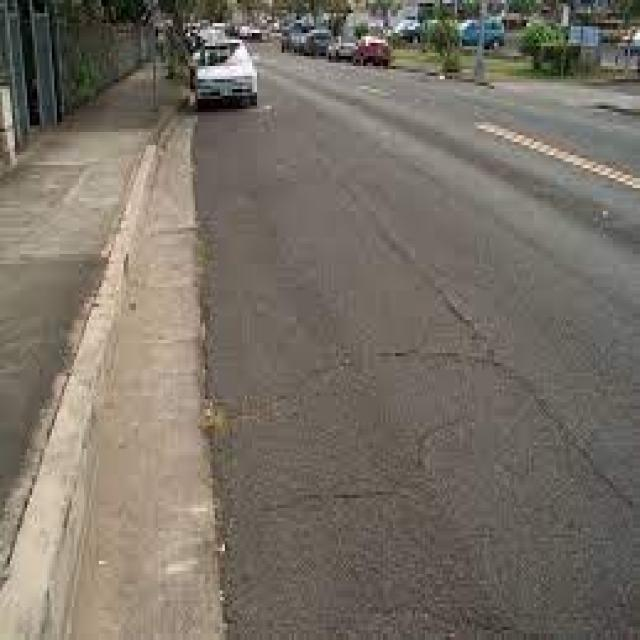Pothole: (105, 165, 640, 640)
